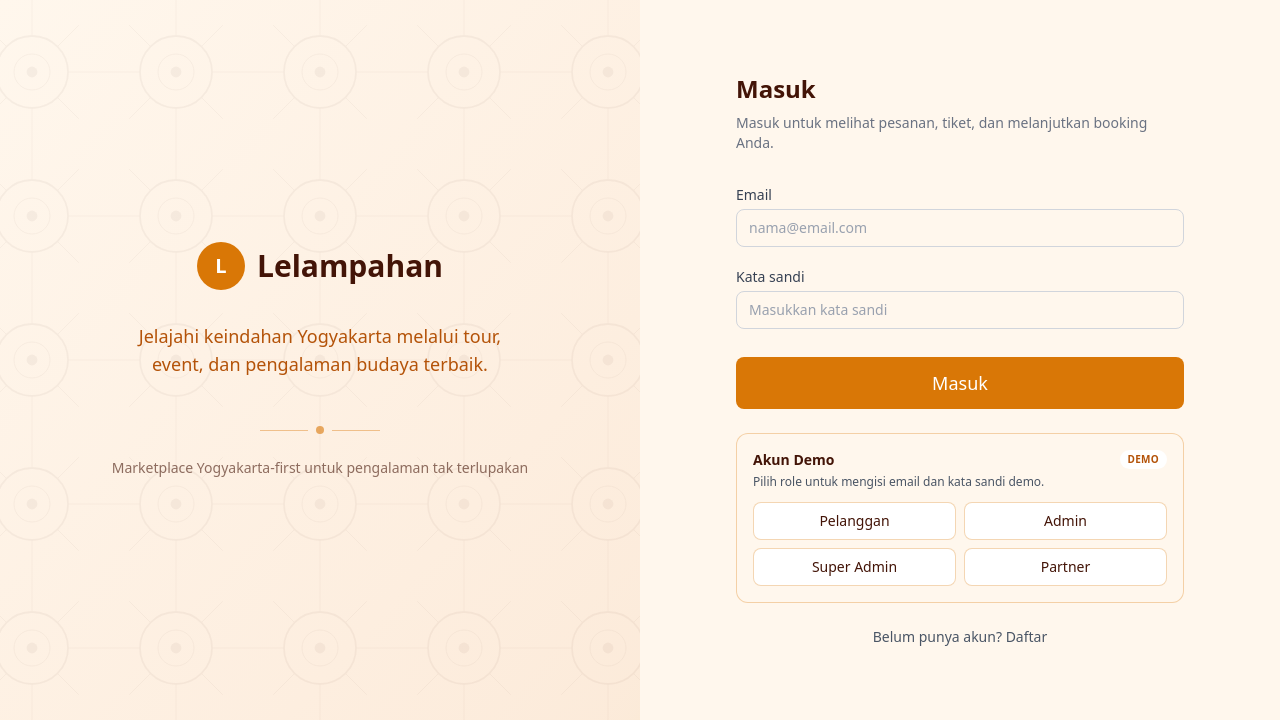
Test case: LoginPage demo accounts › fills email and password when a demo role is selected
Step 1. Click the button "Partner" → point(1066, 567), box [964,548,1167,586]
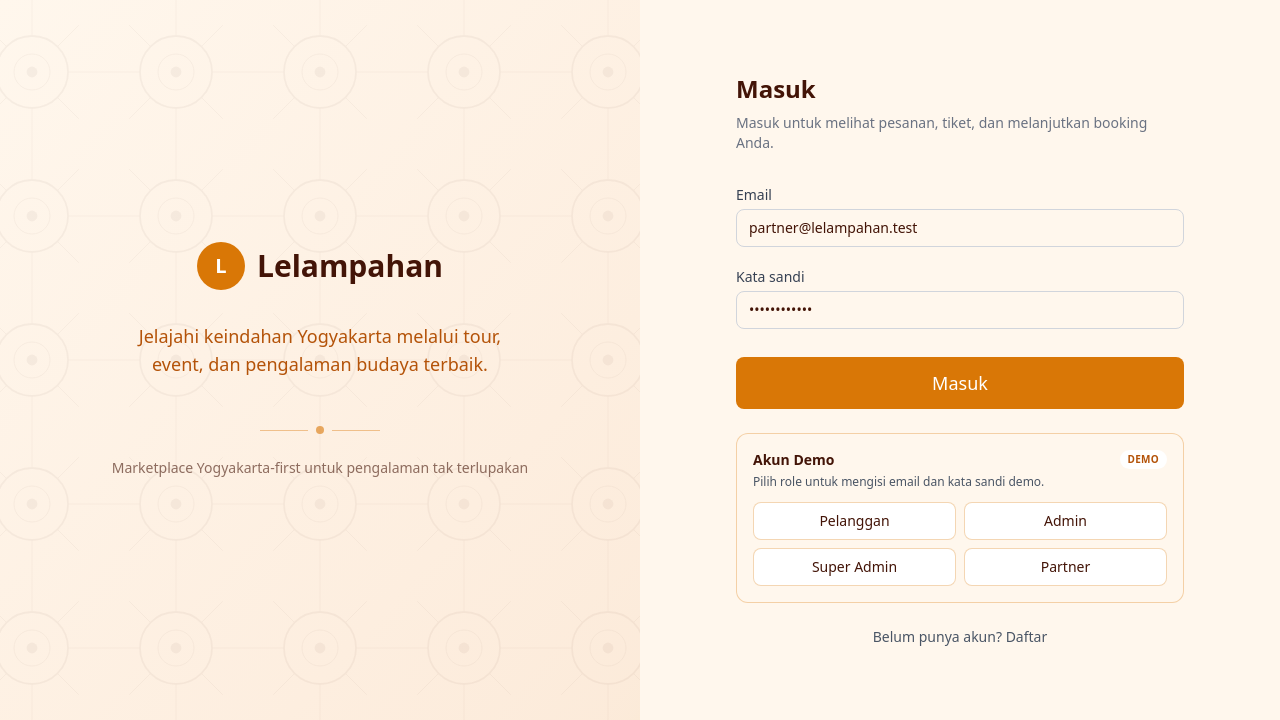
Result: the field labelled "Email" holds "partner@lelampahan.test" at [736,209,1184,247]
Result: the password field labelled "Kata sandi" holds "DemoPass123!" at [736,291,1184,329]
